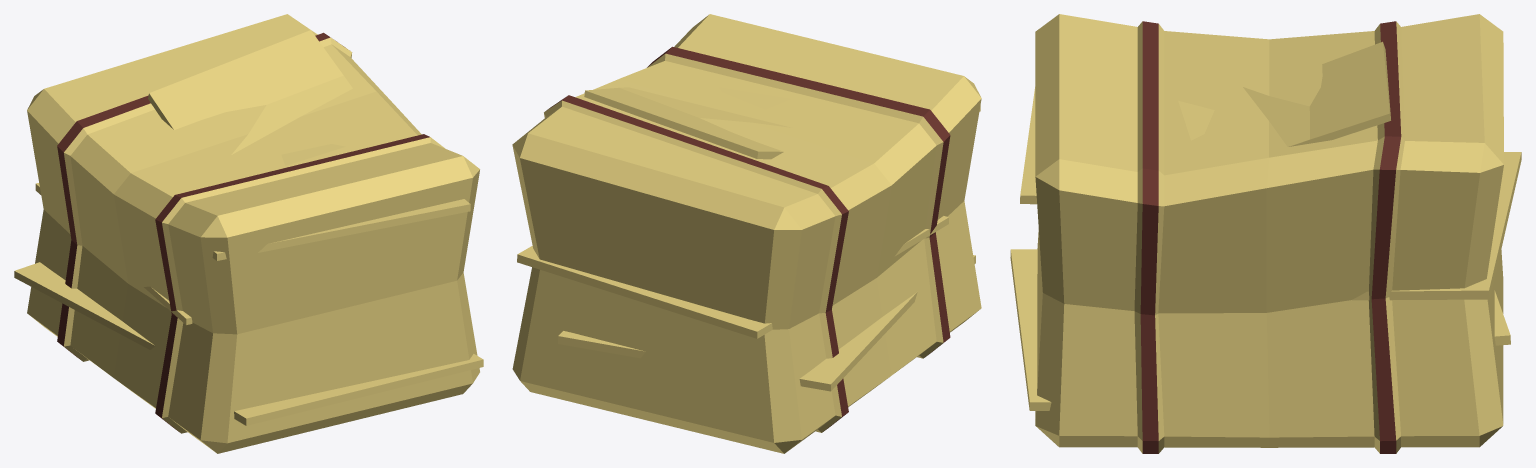
File: HayBale.glb
The picture shows the model from 3 angles, left to right: view 1: azimuth 30°, elevation 25°; view 2: azimuth 150°, elevation 25°; view 3: azimuth 270°, elevation 25°; orthographic projection. The views are drawn at different scales.
Visible parts, largest first — view 1: Cube.001; view 2: Cube.001; view 3: Cube.001.
Boxes of the visible parts, box(x1,y1,x2,y2) form: Cube.001: box(14, 14, 483, 453); Cube.001: box(512, 14, 981, 453); Cube.001: box(1010, 14, 1521, 453).
Size of the model in its own units: 1.82 by 1.56 by 2.18.
